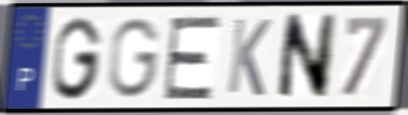7: (342, 13, 391, 100)
E: (160, 13, 224, 102)
G: (107, 15, 164, 100), (50, 14, 105, 102)
K: (224, 15, 274, 99)
N: (274, 11, 340, 103)
